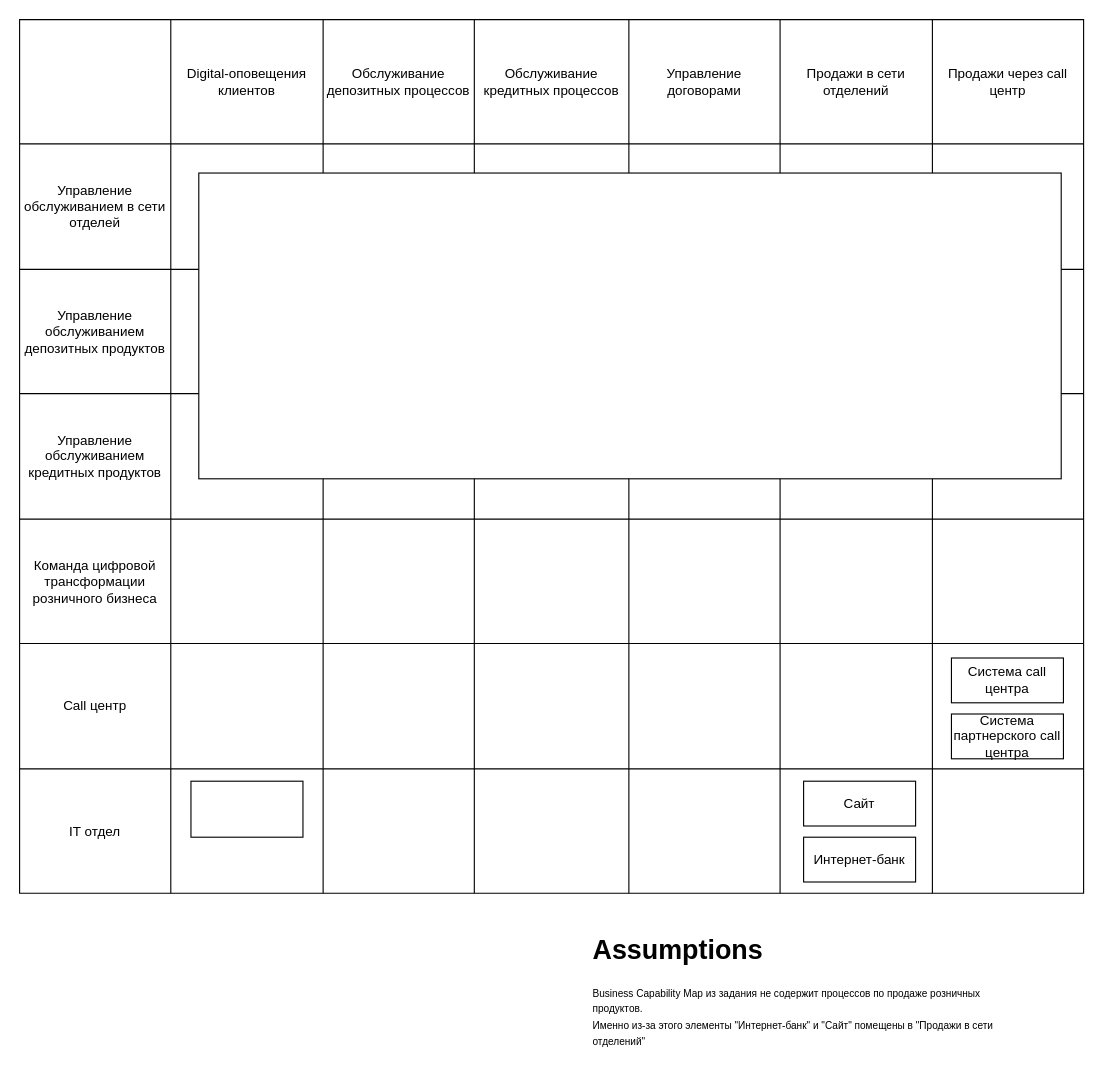
Some shapes in this 1103 by 1084 pixel diagram are drawn without their labels. The centre of each missing label's shape, as x and y in pixels:
"SMS-шлюз телеком-оператора" belongs at (x=246, y=808).
"АБС" belongs at (x=629, y=325).
